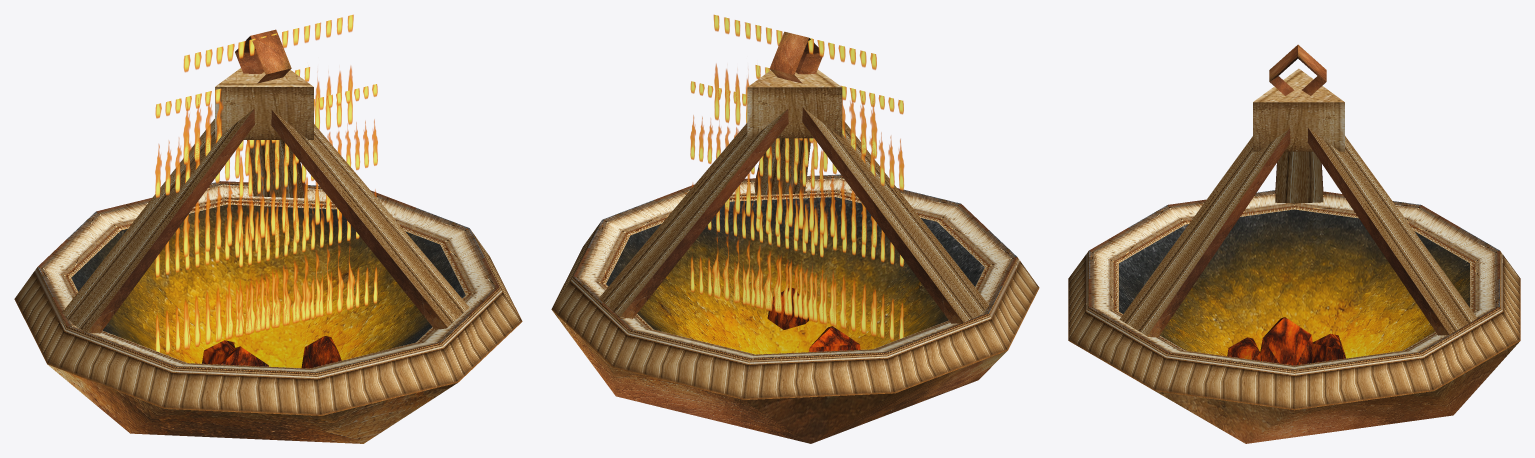
The model's file is mm9_deco_hangingbowl1.glb.
3 renders of one model, left to right at view 1: azimuth 30°, elevation 25°; view 2: azimuth 150°, elevation 25°; view 3: azimuth 270°, elevation 25°, orthographic. The views are drawn at different scales.
Visible parts, largest first — view 1: Hangingbowl1; view 2: Hangingbowl1; view 3: Hangingbowl1.
Part boxes in pixels (x1,y1,x2,y2): Hangingbowl1: (14,14,522,443); Hangingbowl1: (551,14,1039,443); Hangingbowl1: (1068,44,1520,443).
Size of the model in its own units: 1.11 by 0.9462 by 1.06.
3 materials, 3 textured.
